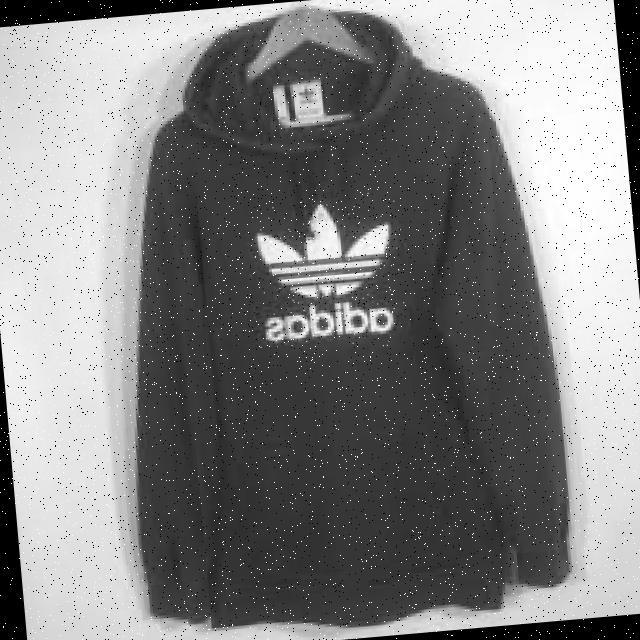Adidas: (245, 190, 411, 357)
